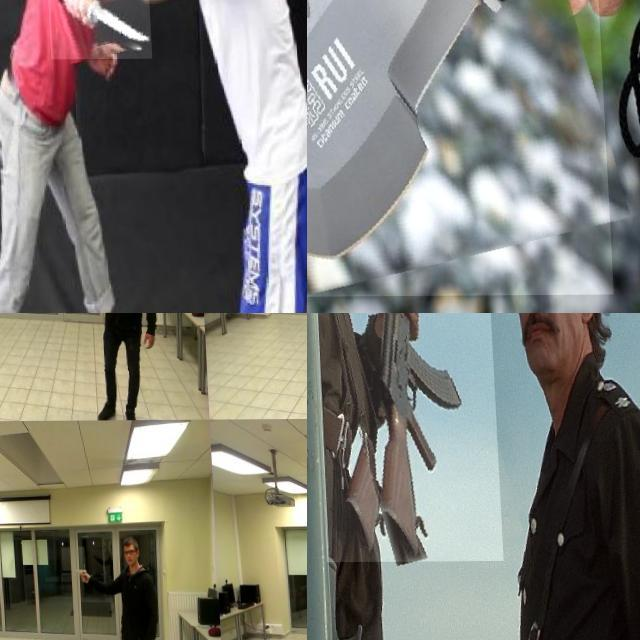-: (307, 0, 607, 298), (44, 0, 149, 60)
gun-knife-thesis - v11 Yolov5 augmented: (307, 313, 498, 562), (68, 561, 91, 586), (52, 313, 75, 325)
